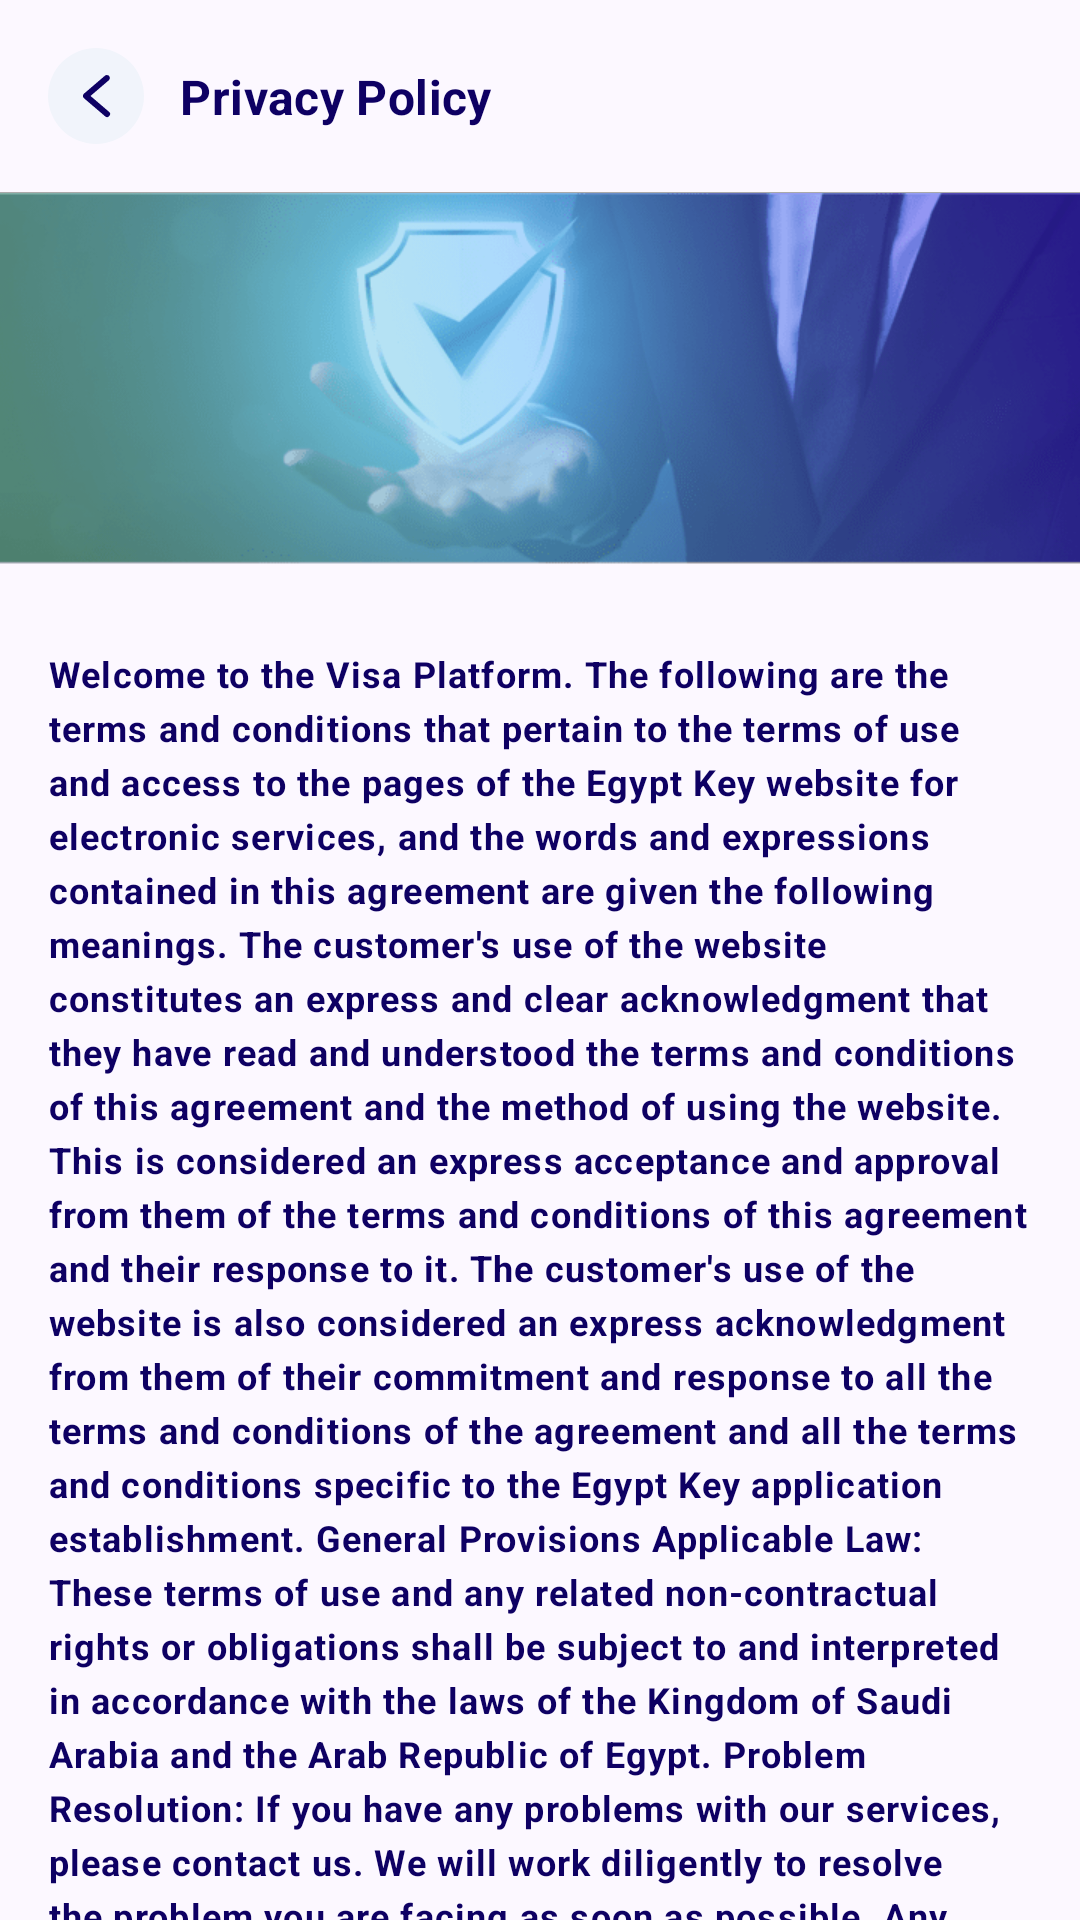

Screen size 1080*1920. Icon name, then its box in pixels as (x1, y1, x2, y2):
arrow back: (48, 48, 144, 144)
